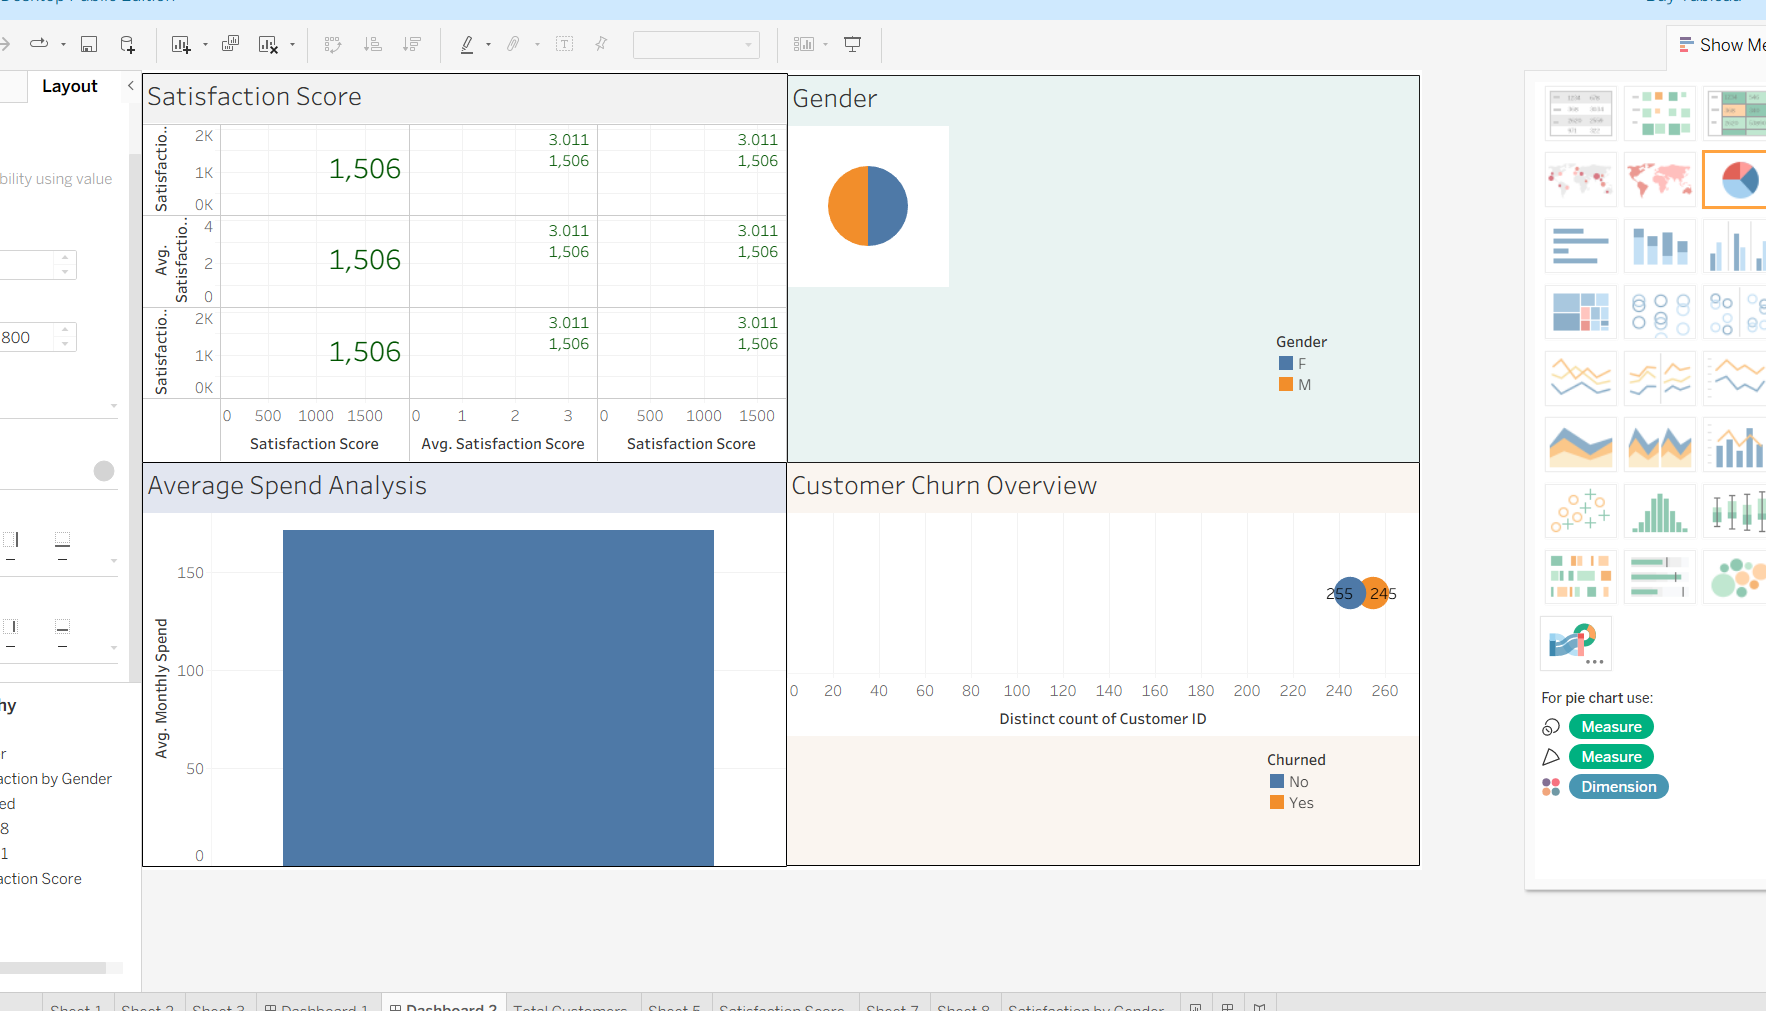

Layout of this report page (visuals, bound fields, positions):
{"tool":"tableau","page":{"name":"Dashboard 2","canvas":[1280,800],"ordinal":1},"visuals":[{"type":"worksheet","title":"Satisfaction Score","mark":"Text","rows":["Satisfaction_Score","Satisfaction_Score","Satisfaction_Score"],"cols":["Satisfaction_Score","Satisfaction_Score","Satisfaction_Score"],"box":[0,3,646,390]},{"type":"worksheet","title":"Satisfaction by Gender","mark":"Pie","box":[645,5,633,388]},{"type":"legend","title":"Satisfaction by Gender","param":"[federated.19amfwg0atj51j1fxxlo0098kwqp].[none:Gender:nk]","box":[1134,261,140,64]},{"type":"worksheet","title":"Sheet 1","mark":"Automatic","rows":["Monthly_Spend"],"box":[0,392,645,405]},{"type":"worksheet","title":"Sheet 8","mark":"Pie","cols":["Customer_ID"],"box":[644,392,634,404]},{"type":"legend","title":"Sheet 8","param":"[federated.19amfwg0atj51j1fxxlo0098kwqp].[none:Churned:nk]","box":[1125,679,151,70]}]}

Visuals, with their boxes on the page's 1280x800 design canvas (x1, y1, x2, y2). These are canvas units, not pixel positions in the 1766x1011 screenshot, which may show the page scaled, cropped or inside an application window:
"Satisfaction Score" worksheet (Text marks): bbox=[0, 3, 646, 393]
"Satisfaction by Gender" worksheet (Pie marks): bbox=[645, 5, 1278, 393]
"Satisfaction by Gender" legend: bbox=[1134, 261, 1274, 325]
"Sheet 1" worksheet: bbox=[0, 392, 645, 797]
"Sheet 8" worksheet (Pie marks): bbox=[644, 392, 1278, 796]
"Sheet 8" legend: bbox=[1125, 679, 1276, 749]
